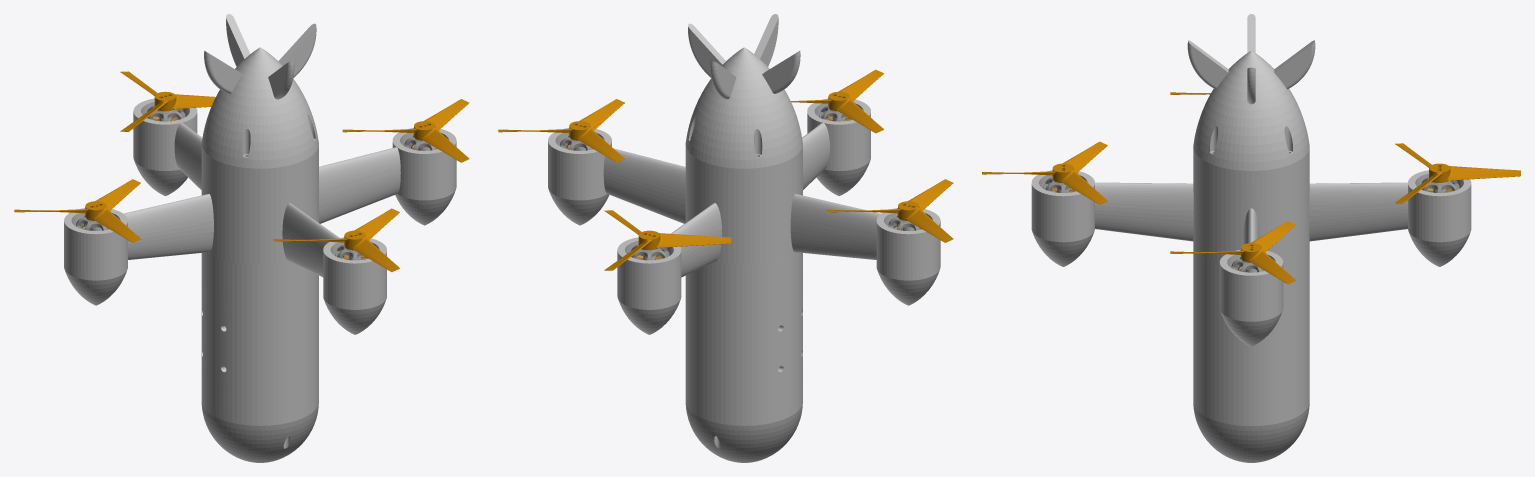
Rendered from interceptor.glb.
The picture shows the model from 3 angles, left to right: view 1: azimuth 30°, elevation 25°; view 2: azimuth 150°, elevation 25°; view 3: azimuth 270°, elevation 25°; orthographic projection.
Parts seen in each view (by area): view 1: empty_2; view 2: empty_2; view 3: empty_2.
Boxes of the visible parts, bbox=[...] form: empty_2: bbox=[14, 14, 469, 462]; empty_2: bbox=[498, 14, 953, 462]; empty_2: bbox=[982, 14, 1520, 462].
Size of the model in its own units: 247 by 218 by 254.
